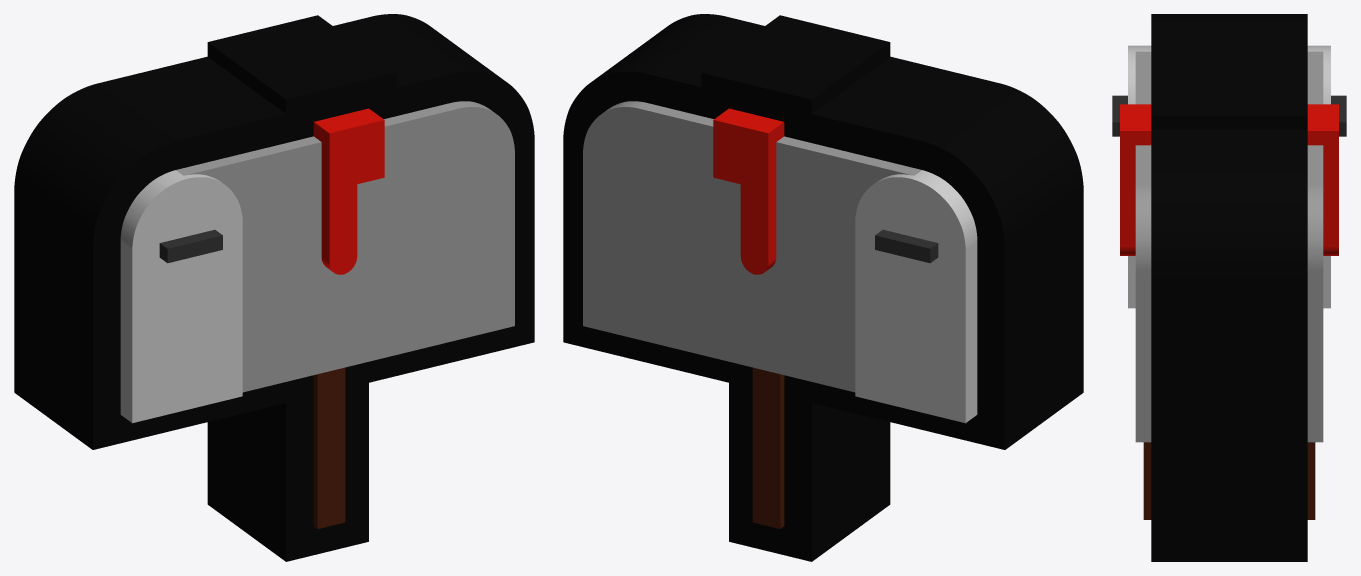
3 views of the same model, side by side, from view 1: azimuth 30°, elevation 25°; view 2: azimuth 150°, elevation 25°; view 3: azimuth 270°, elevation 25° (orthographic).
Parts seen in each view (by area): view 1: U+1F4EB_layer00_obj00, U+1F4EB_layer02_obj00, U+1F4EB_layer03_obj00, U+1F4EB_layer04_obj00, U+1F4EB_layer01_obj00, U+1F4EB_layer05_obj00; view 2: U+1F4EB_layer00_obj00, U+1F4EB_layer02_obj00, U+1F4EB_layer03_obj00, U+1F4EB_layer04_obj00, U+1F4EB_layer01_obj00, U+1F4EB_layer05_obj00; view 3: U+1F4EB_layer00_obj00, U+1F4EB_layer02_obj00, U+1F4EB_layer04_obj00, U+1F4EB_layer03_obj00, U+1F4EB_layer01_obj00, U+1F4EB_layer05_obj00.
Part boxes in pixels (x1,y1,x2,y2): U+1F4EB_layer00_obj00: (14, 14, 534, 561); U+1F4EB_layer02_obj00: (176, 101, 514, 392); U+1F4EB_layer03_obj00: (120, 170, 242, 423); U+1F4EB_layer04_obj00: (313, 108, 384, 274); U+1F4EB_layer01_obj00: (313, 367, 345, 528); U+1F4EB_layer05_obj00: (159, 229, 222, 263); U+1F4EB_layer00_obj00: (563, 14, 1083, 561); U+1F4EB_layer02_obj00: (583, 101, 921, 392); U+1F4EB_layer03_obj00: (855, 170, 977, 423); U+1F4EB_layer04_obj00: (713, 108, 784, 274); U+1F4EB_layer01_obj00: (752, 367, 784, 528); U+1F4EB_layer05_obj00: (875, 229, 938, 263); U+1F4EB_layer00_obj00: (1151, 14, 1307, 561); U+1F4EB_layer02_obj00: (1135, 51, 1323, 442); U+1F4EB_layer04_obj00: (1120, 104, 1338, 255); U+1F4EB_layer03_obj00: (1128, 45, 1330, 308); U+1F4EB_layer01_obj00: (1143, 442, 1315, 519); U+1F4EB_layer05_obj00: (1112, 95, 1346, 136).
Bounding box in the file's own units: 0.6491 × 0.649 × 0.3.
